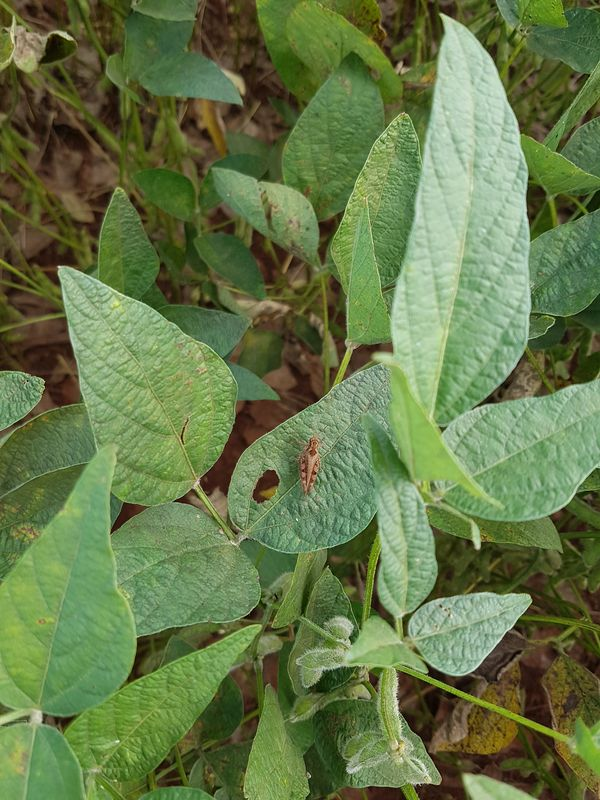Rhammatocerus_schistocercoides: (279, 432, 337, 505)
